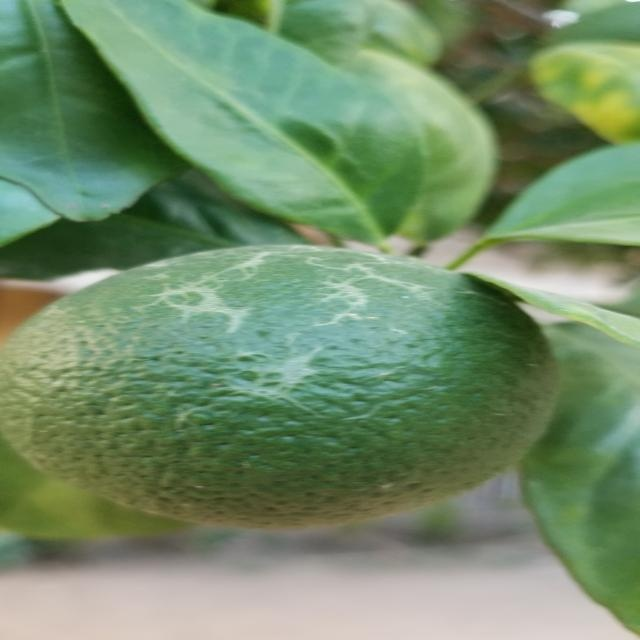agrume: (6, 245, 578, 538)
